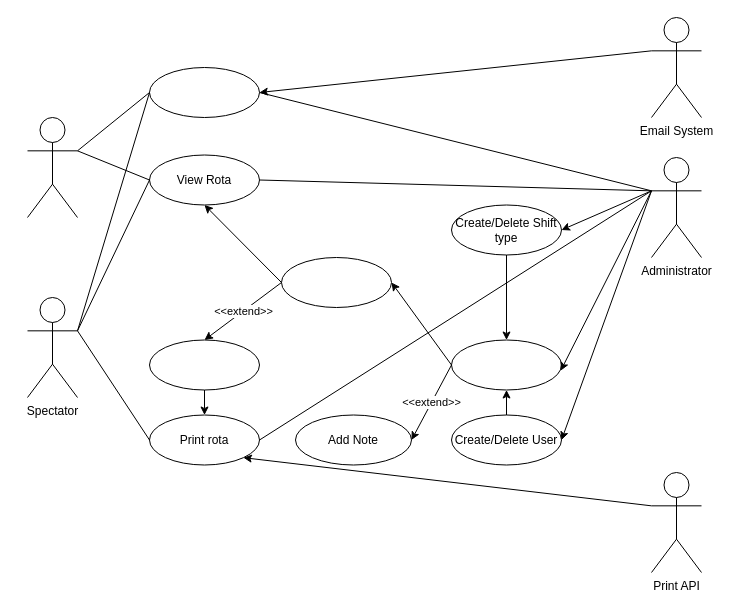
The diagram is 730 pixels wide and 611 high, and some of its shapes have lost their labels. The centre of each missing label's shape, as x and y in pixels:
"Create Printable rota" goes at [204,364].
"Create Rota" goes at [336,282].
"Create/Delete shift" goes at [506,364].
"Junior Doctor" goes at [52,167].
"Rest Password" goes at [204,92].
